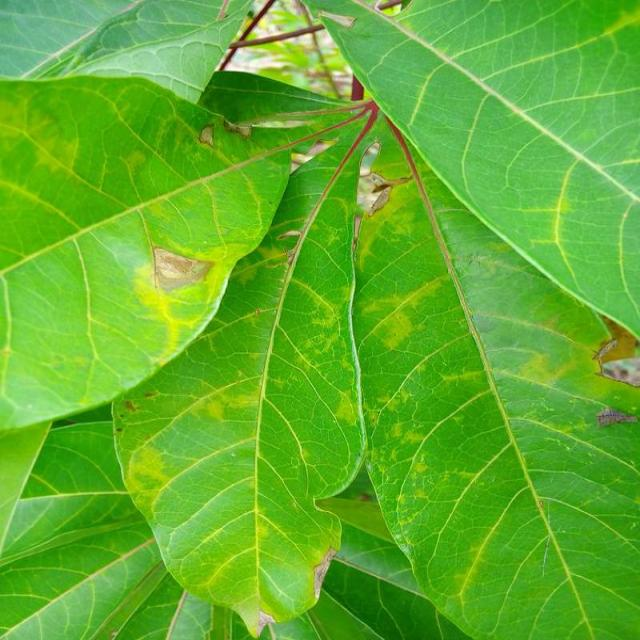cassava leaf: (2, 0, 639, 638), (350, 129, 640, 638), (111, 103, 376, 636), (310, 0, 640, 344), (1, 70, 294, 432)
